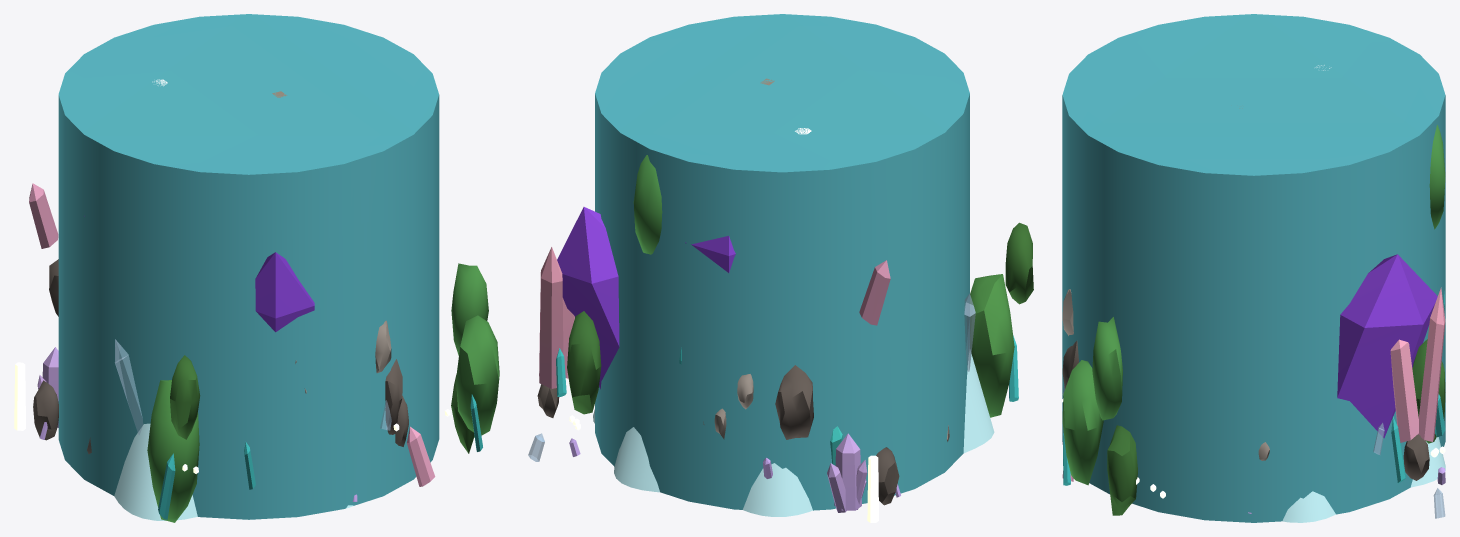
The model's file is ile-cristal-v4.glb.
3 views of the same model, side by side, from view 1: azimuth 30°, elevation 25°; view 2: azimuth 150°, elevation 25°; view 3: azimuth 270°, elevation 25° (orthographic). The views are drawn at different scales.
Parts seen in each view (by area): view 1: cristal_decor, cristal_terrain, cristal_coeurs; view 2: cristal_decor, cristal_terrain, cristal_coeurs; view 3: cristal_decor, cristal_terrain.
Boxes of the visible parts, left/top/right/bottom form: cristal_decor: left=29, top=14, right=499, bottom=522; cristal_terrain: left=114, top=423, right=353, bottom=520; cristal_coeurs: left=14, top=79, right=450, bottom=473; cristal_decor: left=528, top=14, right=1033, bottom=512; cristal_terrain: left=593, top=350, right=994, bottom=516; cristal_coeurs: left=569, top=128, right=878, bottom=522; cristal_decor: left=1062, top=14, right=1445, bottom=522; cristal_terrain: left=1282, top=437, right=1445, bottom=522.
Bounding box in the file's own units: 2 × 2 × 2.
